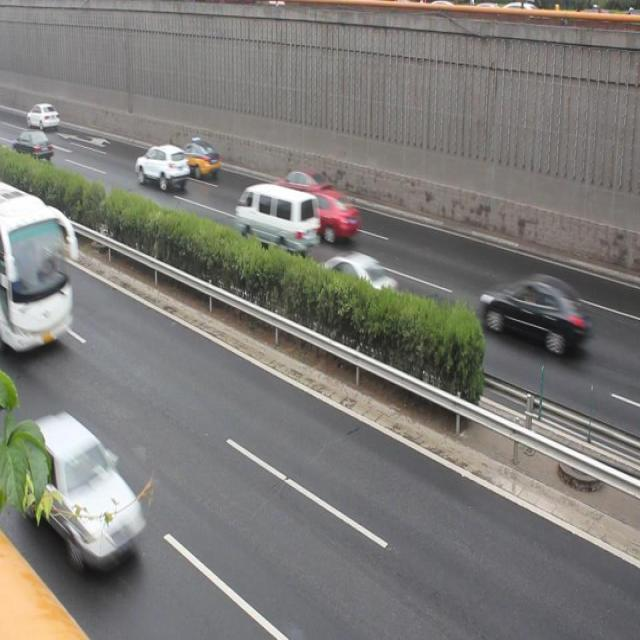car: (25, 414, 150, 560), (475, 272, 586, 350), (315, 243, 399, 312), (298, 181, 359, 248), (134, 141, 188, 197), (272, 163, 328, 202), (179, 136, 223, 176), (14, 128, 54, 164)
truck: (235, 181, 313, 255)
van: (1, 179, 77, 348)
